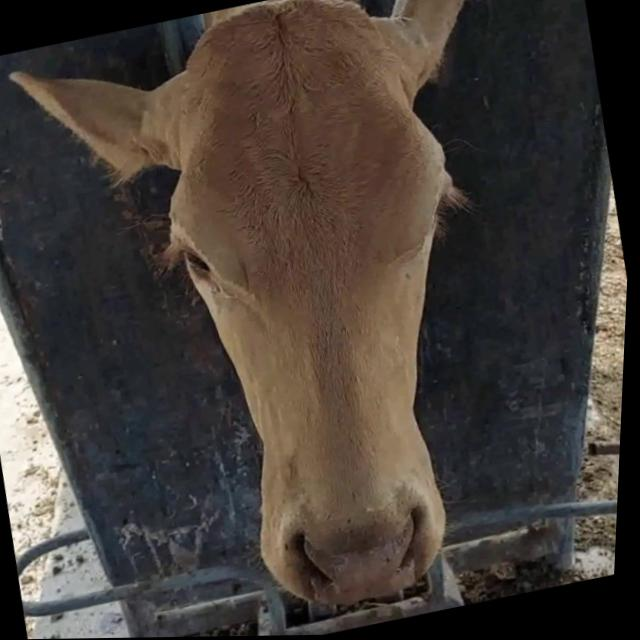cowFace: (120, 0, 528, 619)
